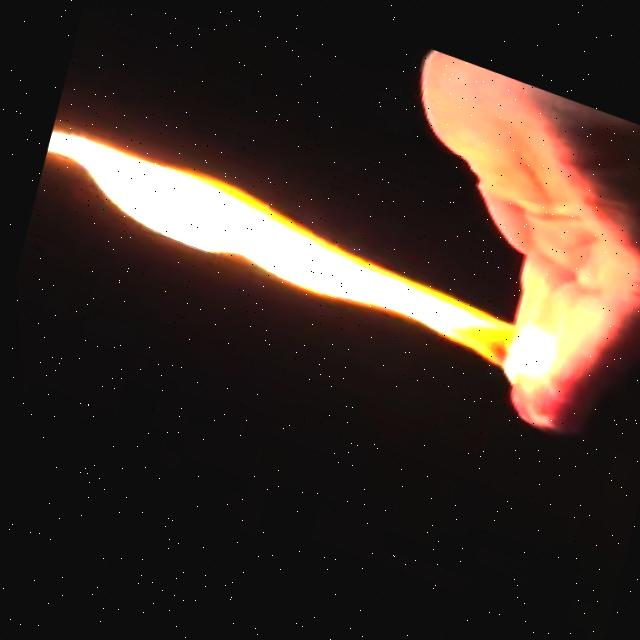Fire: (22, 95, 582, 400)
